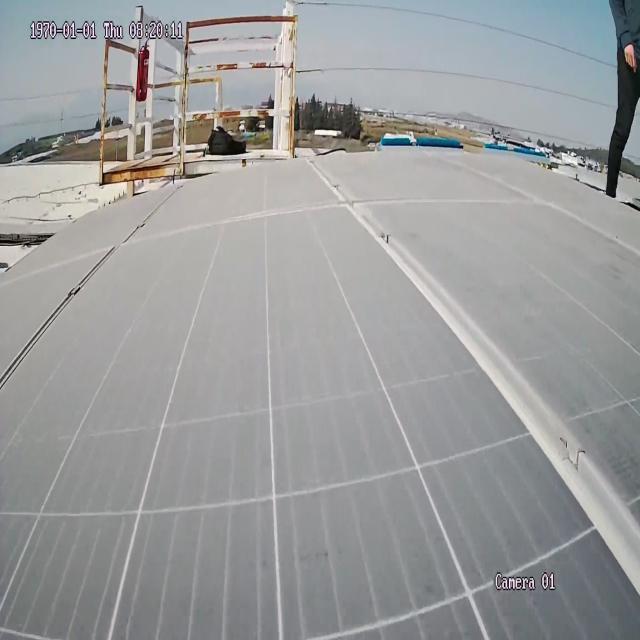interior panel: (0, 159, 640, 614)
outher panel: (0, 225, 65, 289)
